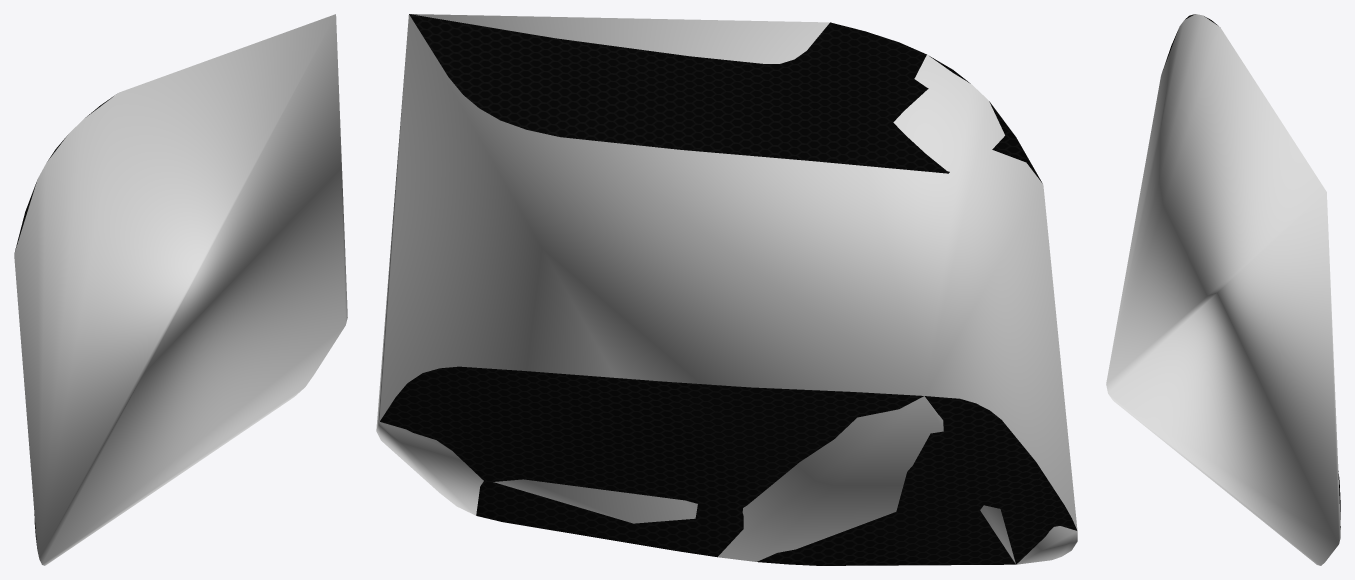
The picture shows the model from 3 angles, left to right: view 1: azimuth 30°, elevation 25°; view 2: azimuth 150°, elevation 25°; view 3: azimuth 270°, elevation 25°; orthographic projection. The views are drawn at different scales.
Visible parts, largest first — view 1: grille_eclipse_tail_l_01_col; view 2: grille_eclipse_tail_l_01_col, grille_eclipse_tail_l_01; view 3: grille_eclipse_tail_l_01_col.
Boxes of the visible parts, x1,y1,x2,y2 form: grille_eclipse_tail_l_01_col: (14, 14, 347, 565); grille_eclipse_tail_l_01_col: (376, 14, 1077, 564); grille_eclipse_tail_l_01: (380, 14, 1077, 565); grille_eclipse_tail_l_01_col: (1106, 14, 1340, 565).
Bounding box in the file's own units: 0.3961 × 0.3703 × 0.1785.
1 material, 1 textured.
